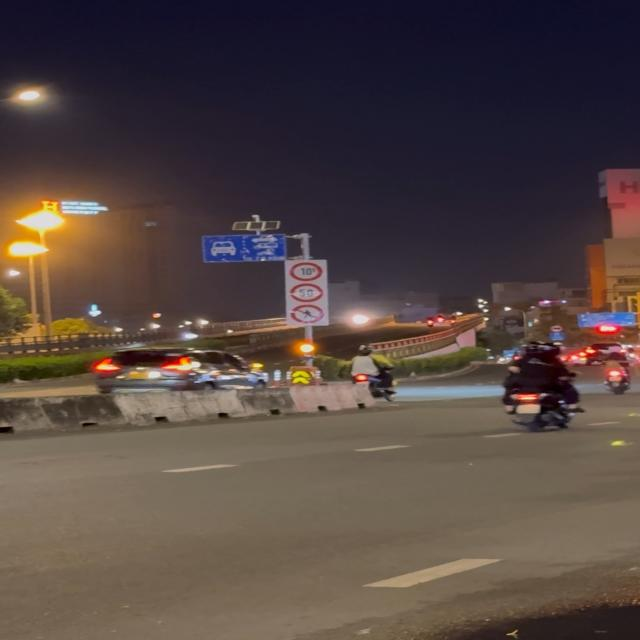Bien bao cam nguoi di bo: (289, 303, 326, 324)
Bien bao toc do toi da cho phep: (288, 283, 325, 303)
